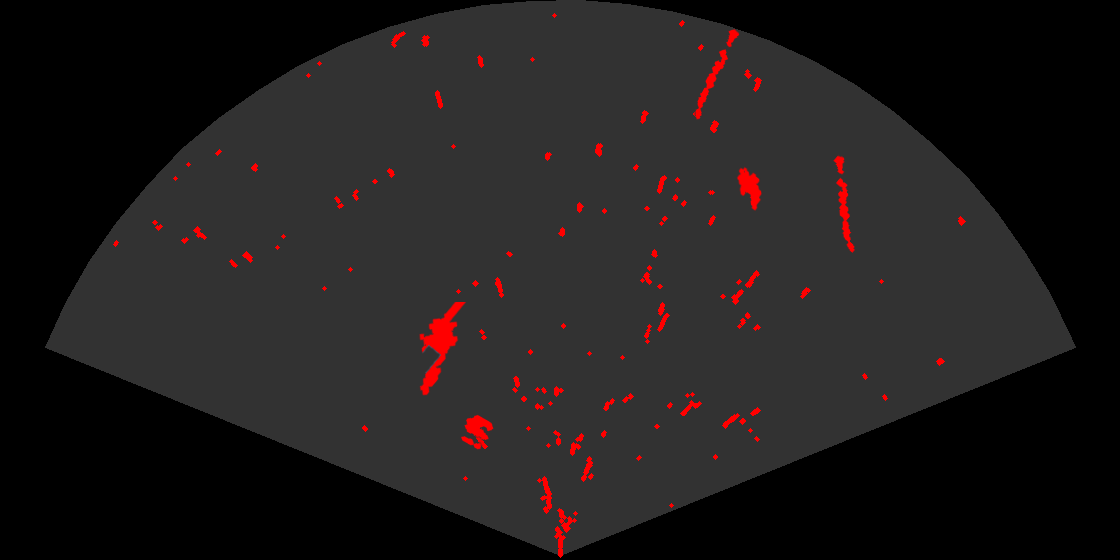AUV: (735, 165, 763, 212)
ball: (459, 413, 495, 451)
chain: (694, 28, 741, 121), (832, 154, 856, 254)
frogman: (418, 302, 468, 397)
